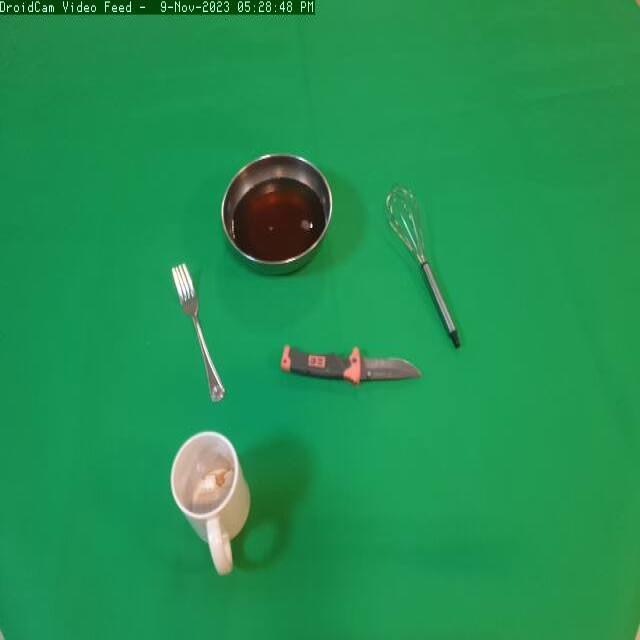cup: (159, 418, 261, 588)
fork: (166, 255, 234, 412)
fullbowl: (216, 146, 340, 285)
knife: (276, 335, 426, 392)
whisk: (382, 175, 478, 360)
